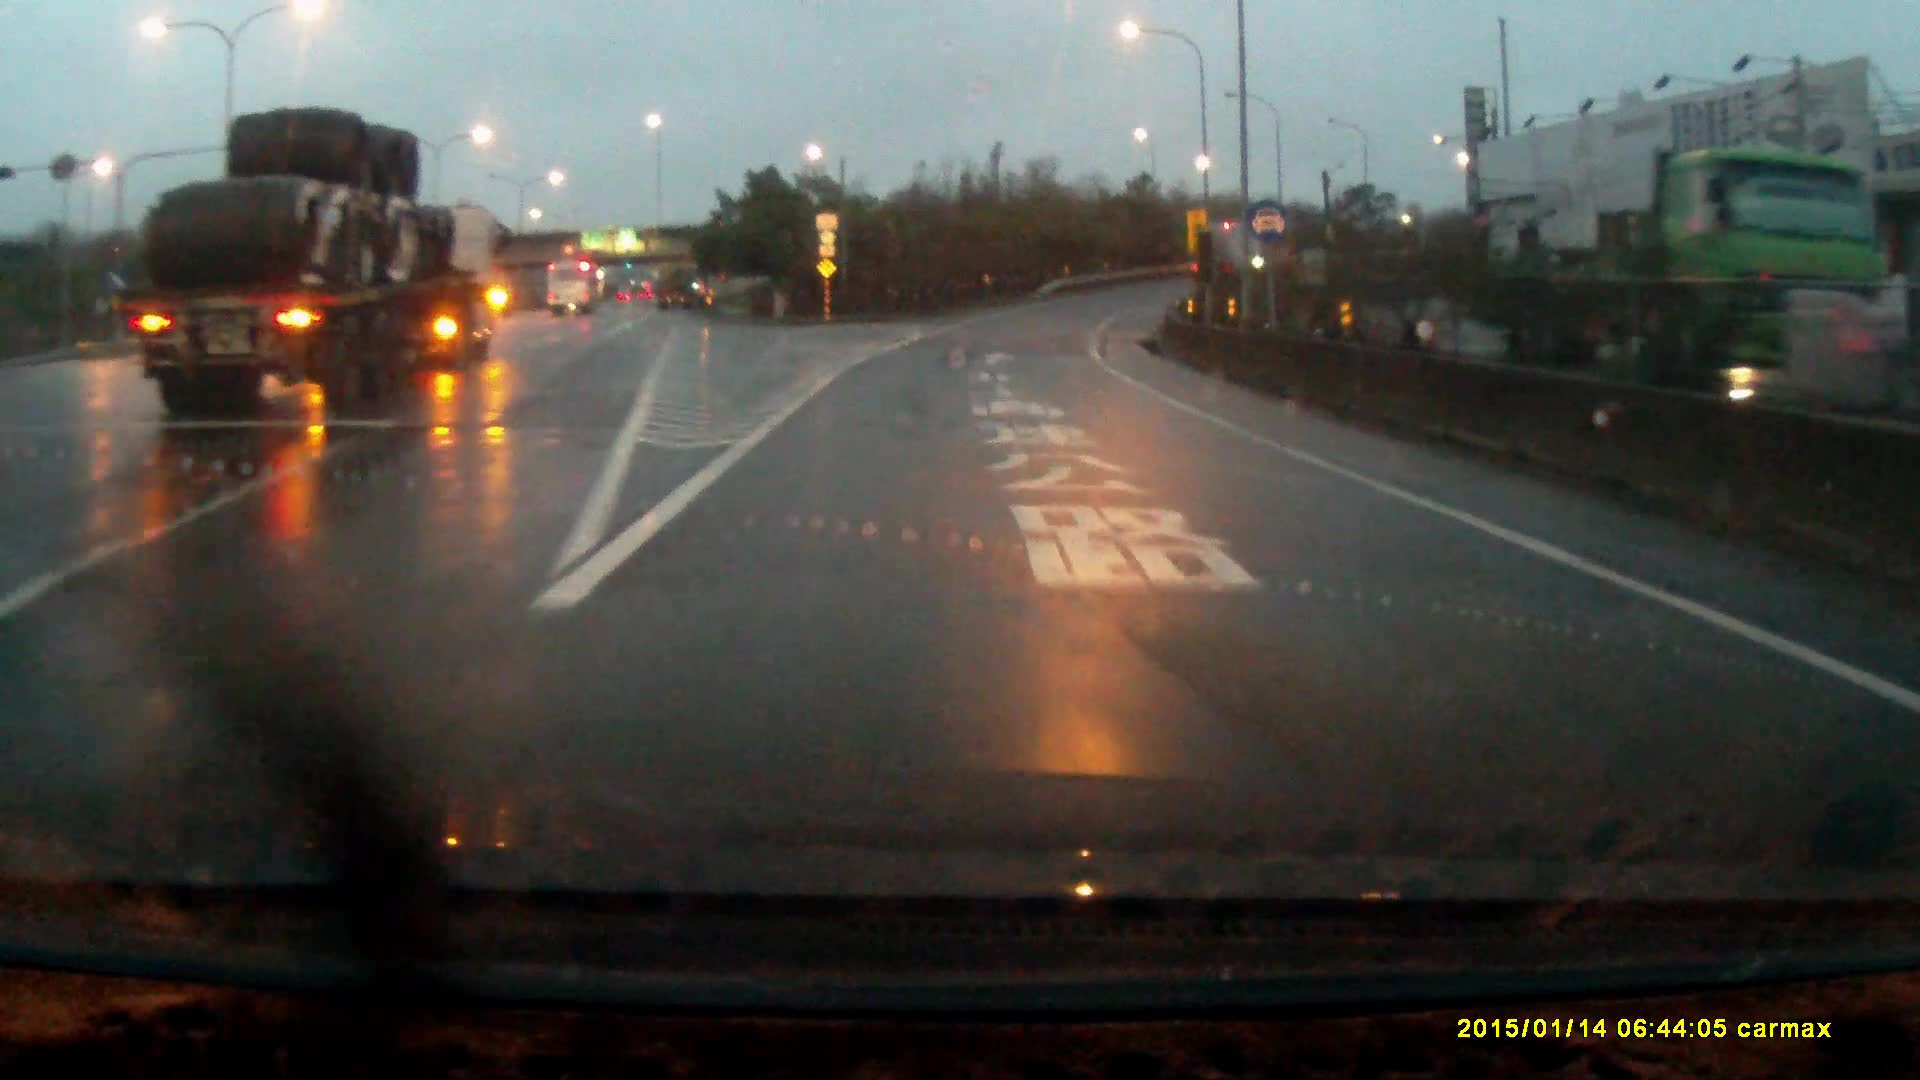vehicle: (113, 111, 510, 407), (547, 262, 599, 320)
